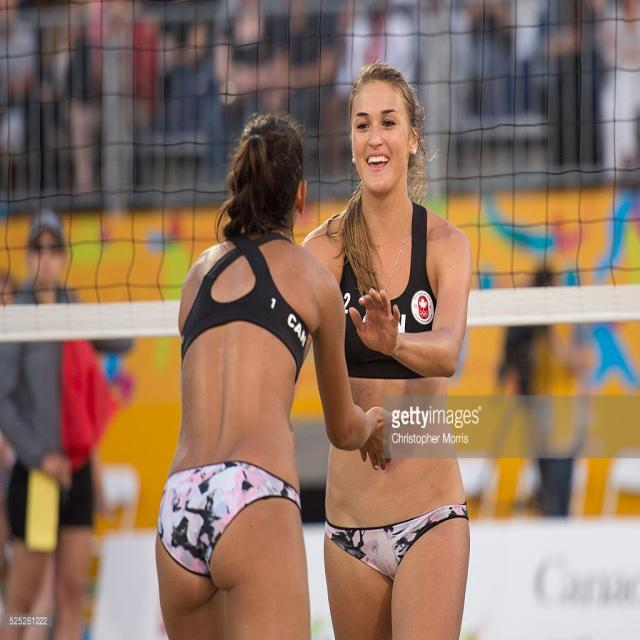body: (144, 93, 398, 639), (1, 0, 640, 197), (292, 57, 478, 638), (0, 201, 124, 639), (494, 260, 599, 573)
